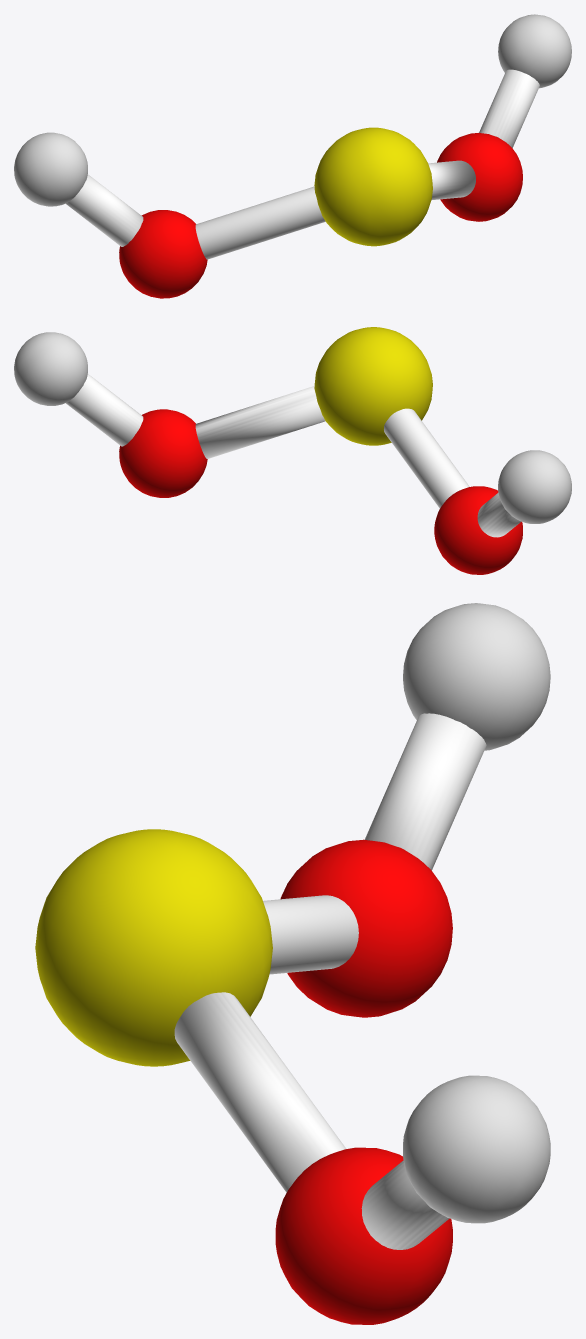
The picture shows the model from 3 angles, top to bottom: view 1: azimuth 30°, elevation 25°; view 2: azimuth 150°, elevation 25°; view 3: azimuth 270°, elevation 25°; orthographic projection. The views are drawn at different scales.
Parts seen in each view (by area): view 1: s-o-h.003; view 2: s-o-h.003; view 3: s-o-h.003.
Boxes of the visible parts, box(x1,y1,x2,y2) form: s-o-h.003: box(14, 14, 571, 298); s-o-h.003: box(14, 327, 571, 574); s-o-h.003: box(35, 603, 550, 1324).
Size of the model in its own units: 852 by 240 by 347.
